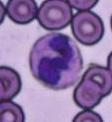N: (29, 32, 83, 89)
